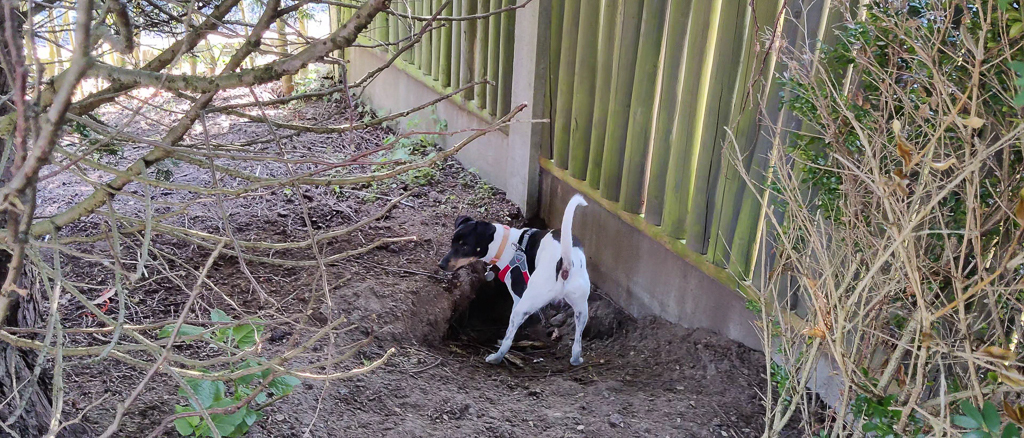Dog: (436, 177, 611, 378)
